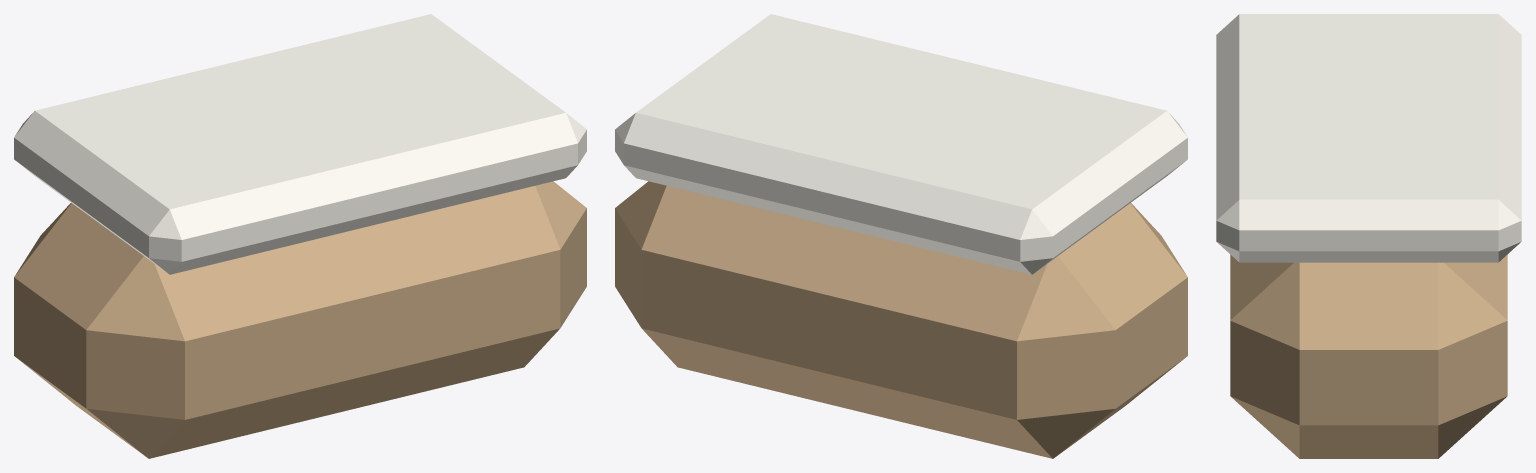
Rendered from feudal-japan-castle-town-wooden-pillow-1806b2fe__26473.glb.
3 renders of one model, left to right at view 1: azimuth 30°, elevation 25°; view 2: azimuth 150°, elevation 25°; view 3: azimuth 270°, elevation 25°, orthographic. The views are drawn at different scales.
Visible parts, largest first — view 1: wooden-pillow; view 2: wooden-pillow; view 3: wooden-pillow.
Boxes of the visible parts, x1=… form: wooden-pillow: x1=14, y1=14, x2=586, y2=458; wooden-pillow: x1=615, y1=14, x2=1187, y2=458; wooden-pillow: x1=1216, y1=14, x2=1521, y2=458.
Size of the model in its own units: 0.4 by 0.21 by 0.22.
